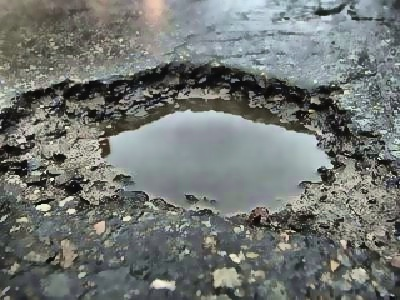pothole: (0, 56, 376, 226)
